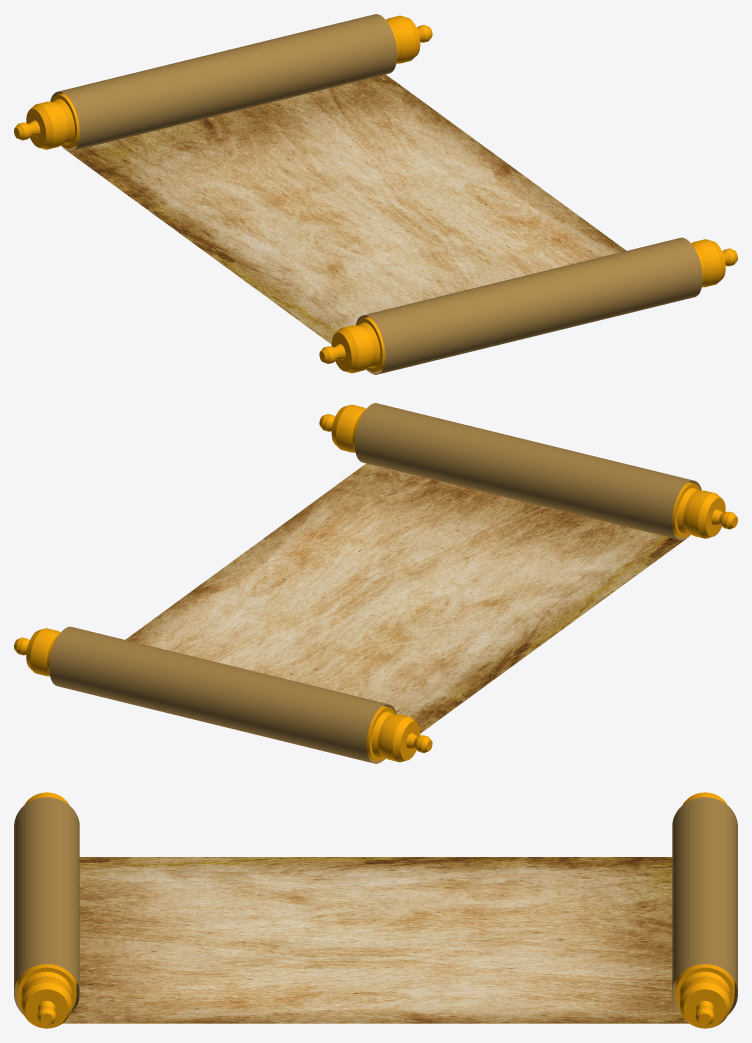
File: scroll.glb
The picture shows the model from 3 angles, top to bottom: view 1: azimuth 30°, elevation 25°; view 2: azimuth 150°, elevation 25°; view 3: azimuth 270°, elevation 25°; orthographic projection. The views are drawn at different scales.
Parts seen in each view (by area): view 1: Object_2, Object_5, Object_3; view 2: Object_2, Object_5, Object_3; view 3: Object_2, Object_5, Object_3, Object_4.
Part boxes in pixels (x1,y1,x2,y2): Object_2: (66,74,626,371); Object_5: (50,14,702,374); Object_3: (14,15,725,373); Object_2: (125,463,685,760); Object_5: (49,403,701,763); Object_3: (14,404,737,762); Object_2: (63,857,688,1023); Object_5: (14,797,737,1014); Object_3: (17,792,734,1028); Object_4: (25,989,68,1028).
Bounding box in the file's own units: 7.8 × 1 × 11.
Materials: 3 (1 with a texture image).
